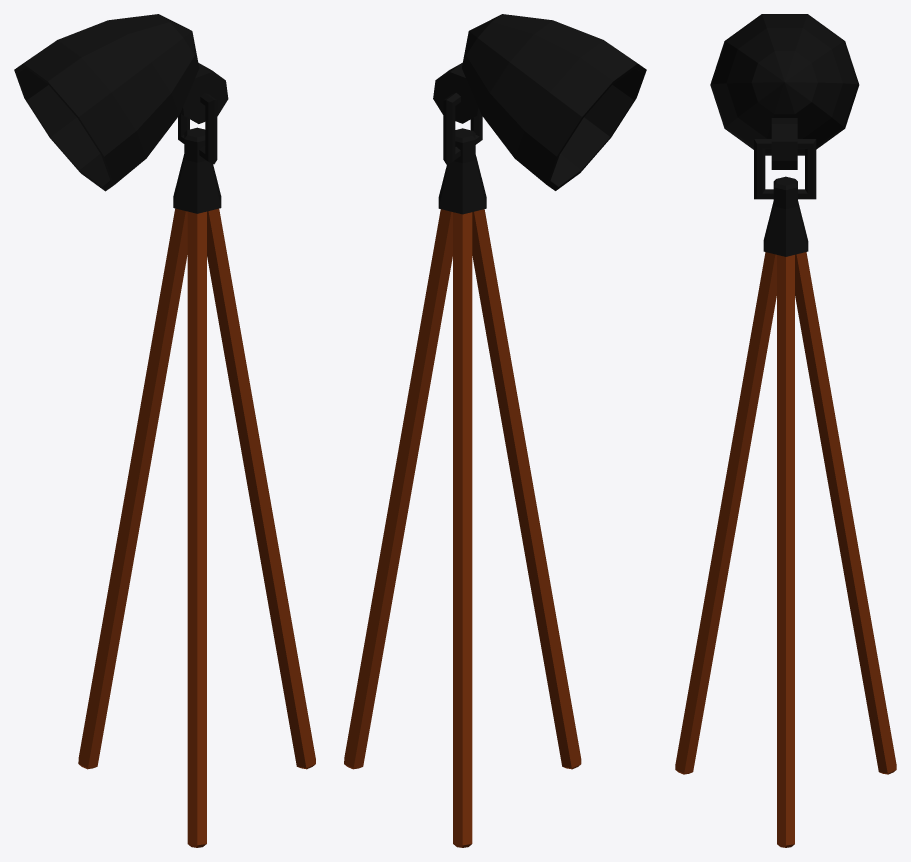
File: lamp.glb
The picture shows the model from 3 angles, left to right: view 1: azimuth 30°, elevation 25°; view 2: azimuth 150°, elevation 25°; view 3: azimuth 270°, elevation 25°; orthographic projection. The views are drawn at different scales.
Visible parts, largest first — view 1: lamp; view 2: lamp; view 3: lamp.
Boxes of the visible parts, box(x1,y1,x2,y2) form: lamp: box(14, 14, 315, 847); lamp: box(344, 14, 646, 847); lamp: box(675, 14, 896, 847).
Bounding box in the file's own units: 0.5111 × 1.37 × 0.374.
